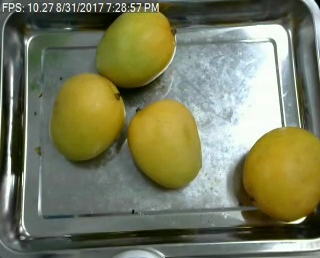Mango: (242, 127, 320, 220), (124, 99, 201, 189), (48, 72, 127, 159), (95, 9, 174, 88)
